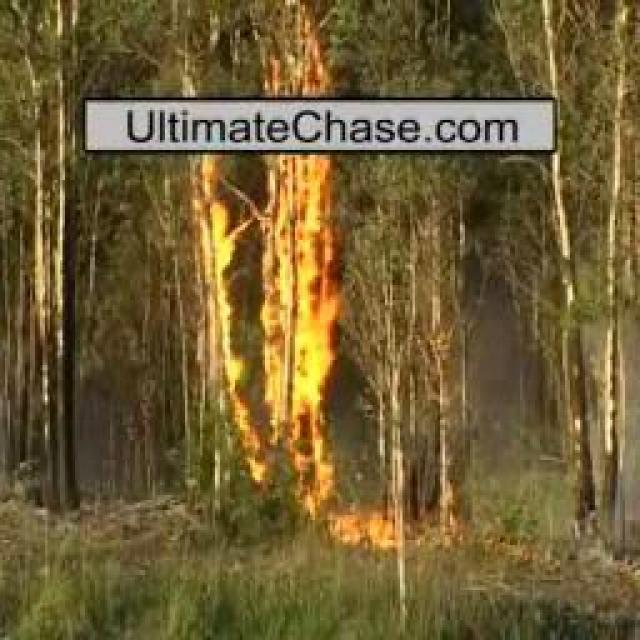Fire: (192, 155, 355, 501), (28, 139, 100, 437), (245, 24, 366, 103), (316, 527, 408, 549)
